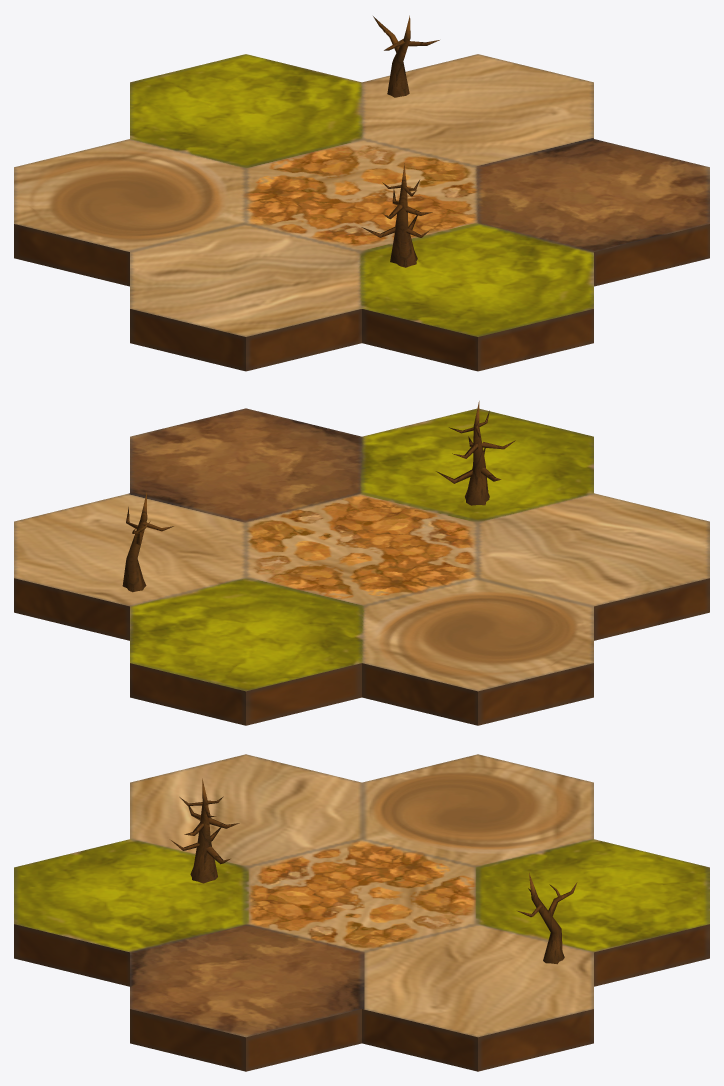
The model's file is Tile_Desert5.fbx.
3 renders of one model, top to bottom at view 1: azimuth 30°, elevation 25°; view 2: azimuth 150°, elevation 25°; view 3: azimuth 270°, elevation 25°, orthographic.
Parts seen in each view (by area): view 1: desertTile4, dryTree2_04, dryTree08; view 2: desertTile4, dryTree2_04, dryTree08; view 3: desertTile4, dryTree2_04, dryTree08.
Boxes of the visible parts, bbox=[...] form: desertTile4: bbox=[14, 54, 709, 371]; dryTree2_04: bbox=[361, 163, 432, 267]; dryTree08: bbox=[373, 15, 439, 97]; desertTile4: bbox=[14, 408, 709, 725]; dryTree2_04: bbox=[436, 401, 515, 505]; dryTree08: bbox=[122, 492, 173, 592]; desertTile4: bbox=[14, 754, 709, 1071]; dryTree2_04: bbox=[171, 778, 239, 883]; dryTree08: bbox=[517, 873, 577, 964].
Bounding box in the file's own units: 128 × 28.39 × 133.
